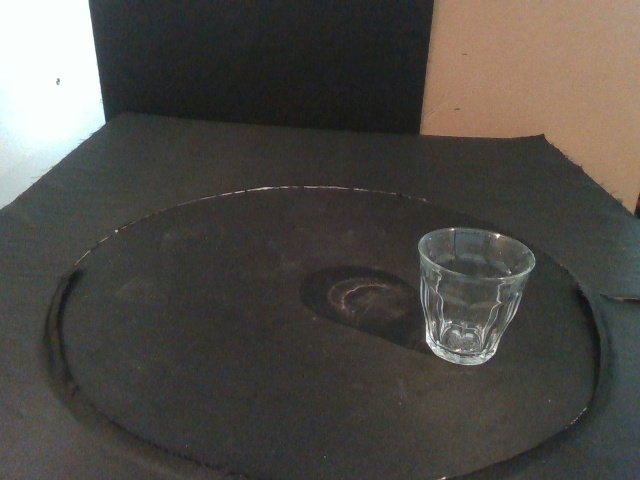glass: (417, 227, 536, 367)
